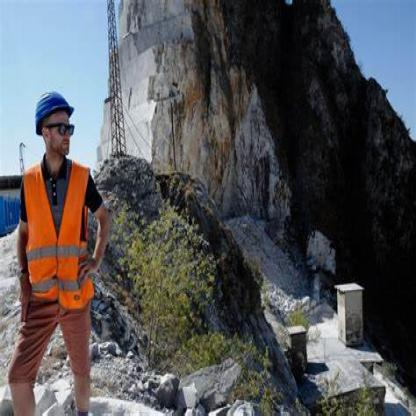person: (5, 83, 112, 412)
